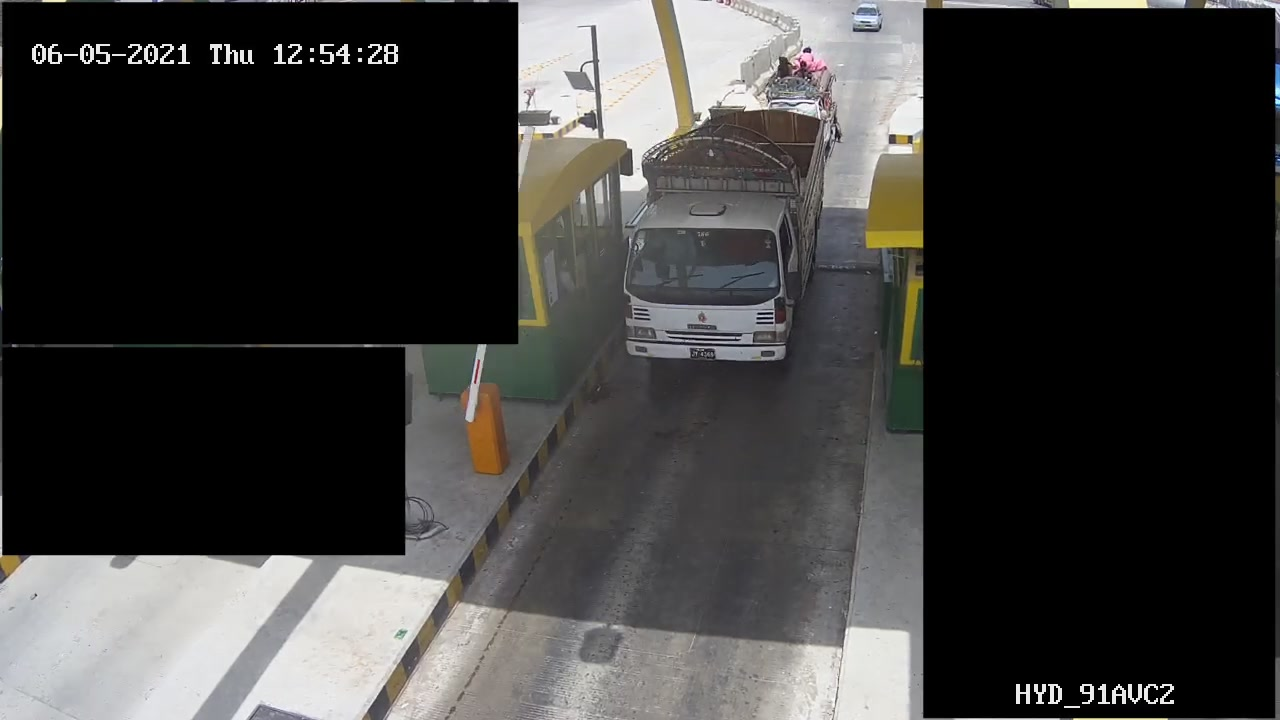F3: (613, 107, 842, 377)
